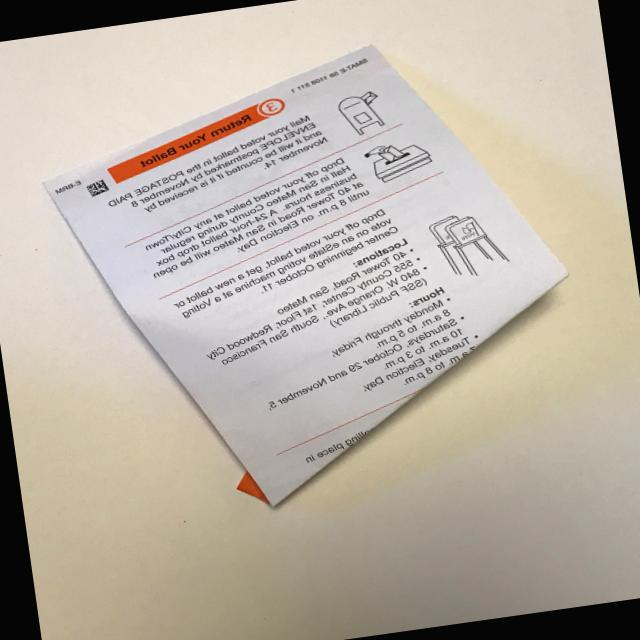Paper: (4, 6, 606, 564)
